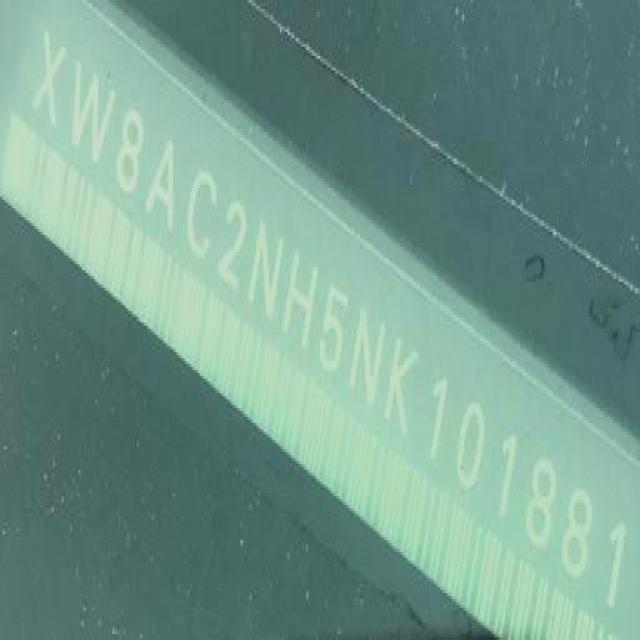0: (449, 387, 493, 503)
1: (592, 510, 630, 625), (490, 419, 523, 527), (420, 361, 451, 468)
2: (213, 184, 253, 301)
5: (312, 275, 354, 387)
8: (519, 443, 564, 565), (555, 477, 596, 601), (110, 94, 148, 211)
A: (142, 124, 186, 242)
C: (181, 152, 223, 272)
H: (280, 242, 322, 360)
K: (382, 331, 422, 446)
N: (345, 300, 392, 423), (246, 209, 291, 329)
W: (59, 48, 120, 183)
X: (28, 16, 71, 145)
